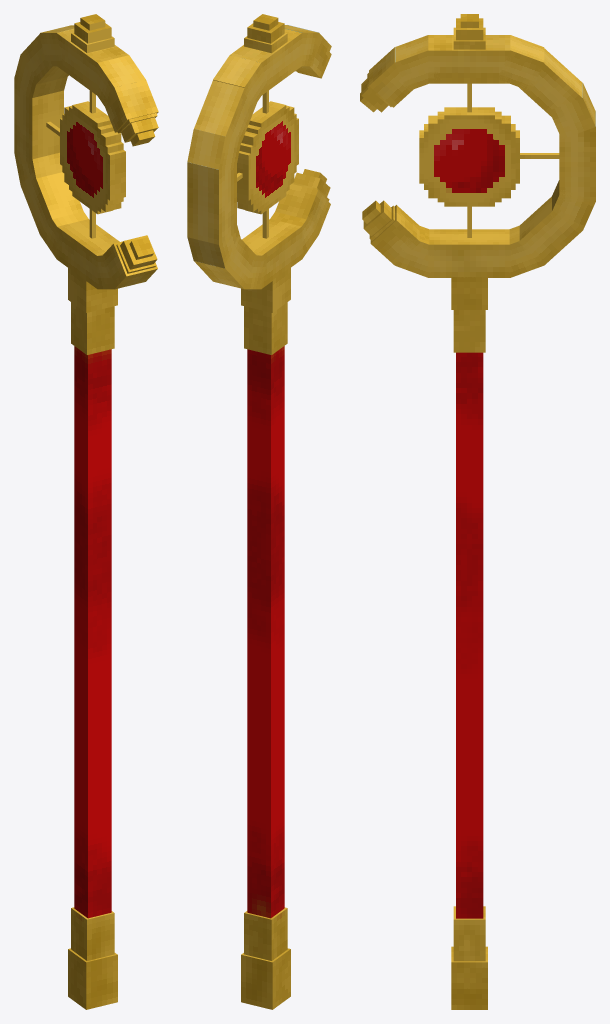
3 renders of one model, left to right at view 1: azimuth 30°, elevation 25°; view 2: azimuth 150°, elevation 25°; view 3: azimuth 270°, elevation 25°, orthographic.
Parts seen in each view (by area): view 1: cube (×7), Head (×20); view 2: cube (×6), Head (×18); view 3: Head (×15), cube (×5).
Part boxes in pixels (left/top/right/bottom): cube (×7): left=64, top=101, right=125, bottom=1009; Head (×20): left=14, top=22, right=158, bottom=354; cube (×6): left=237, top=101, right=294, bottom=1009; Head (×18): left=187, top=22, right=331, bottom=354; Head (×15): left=369, top=35, right=595, bottom=352; cube (×5): left=428, top=107, right=510, bottom=1009.
Bounding box in the file's own units: 0.1 × 2.96 × 0.6433.
Materials: 1 (1 with a texture image).
